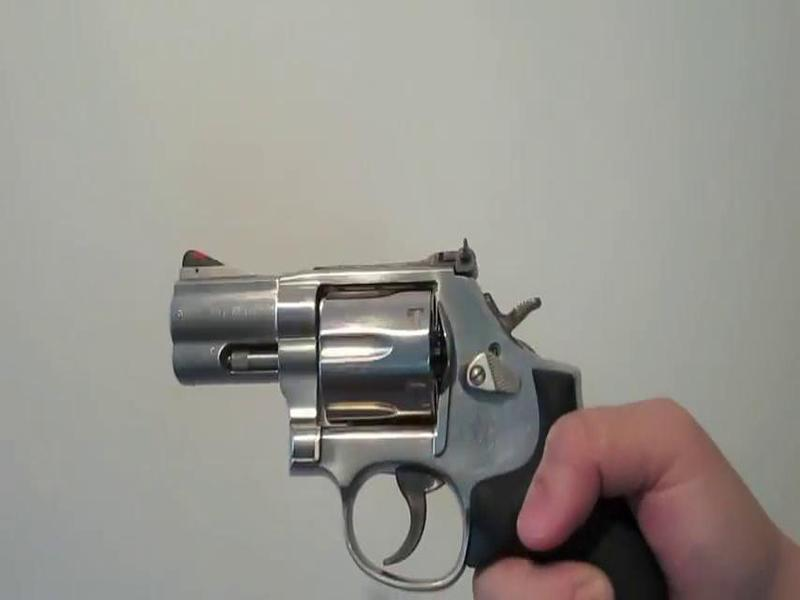Revolver: (133, 189, 663, 600)
